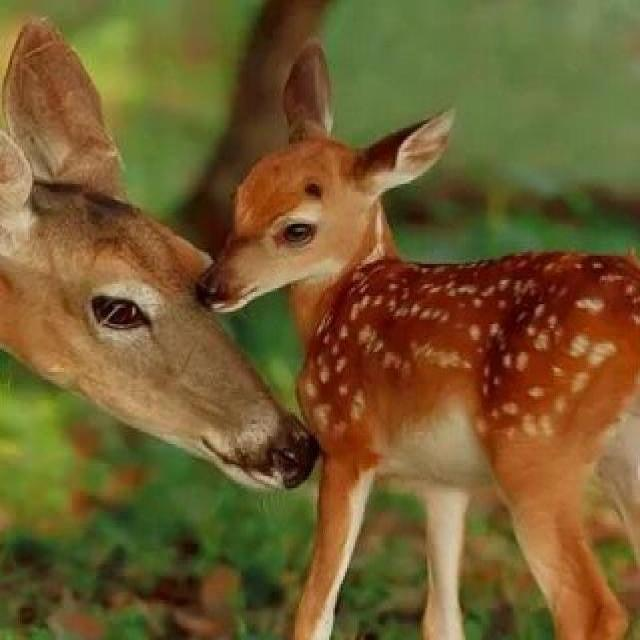deer: (170, 100, 620, 555), (0, 106, 281, 489)
